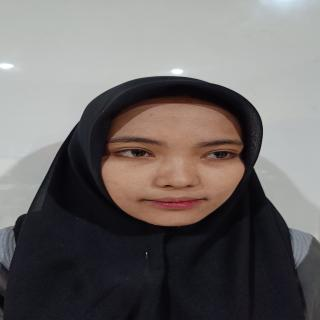Netral: (97, 93, 258, 234)
